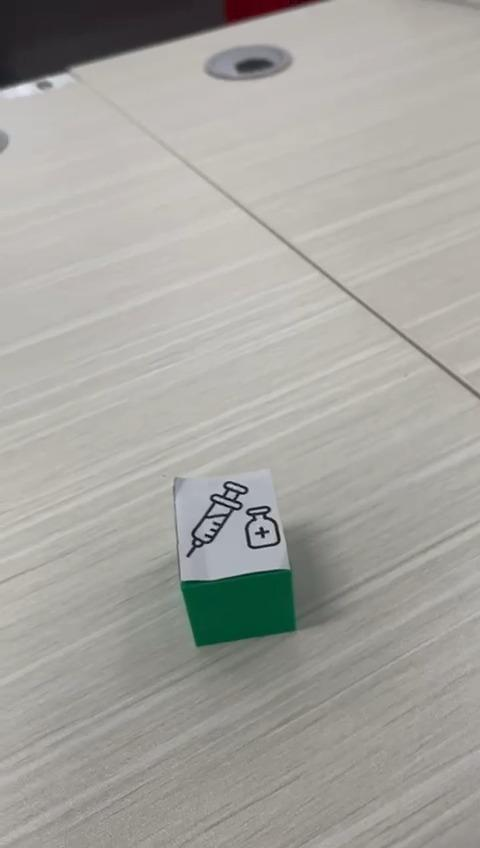antiseptic cream: (170, 467, 298, 647)
